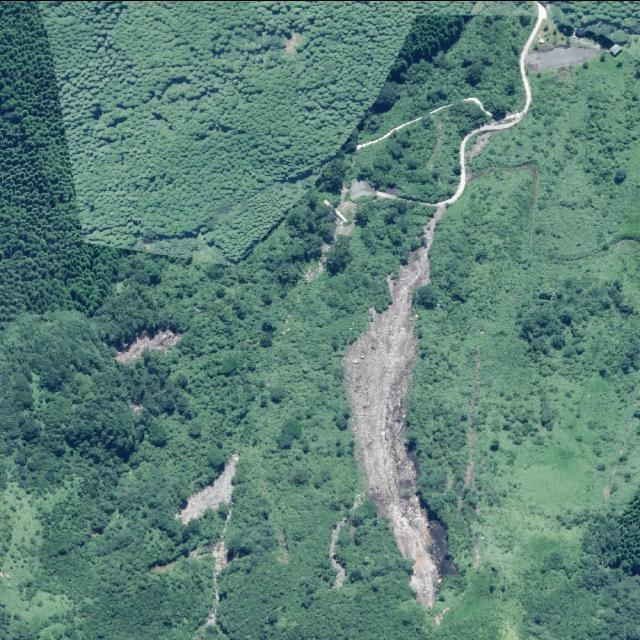landslide: (344, 228, 446, 607)
